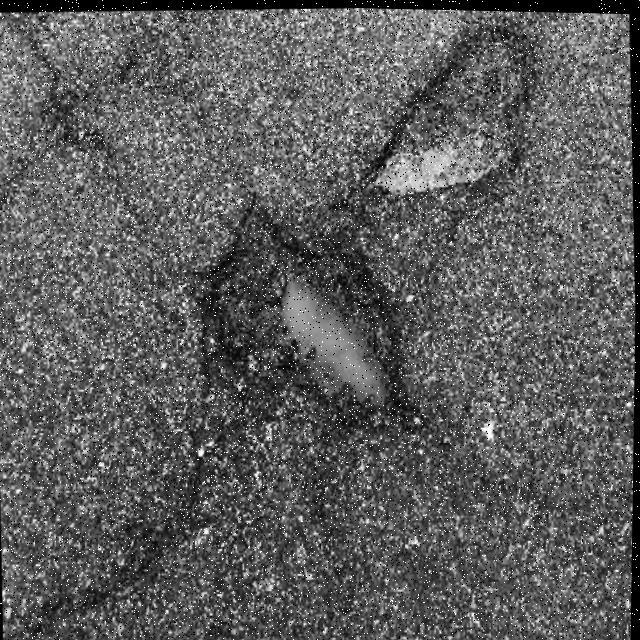pothole: (192, 194, 425, 426), (362, 14, 546, 202)
